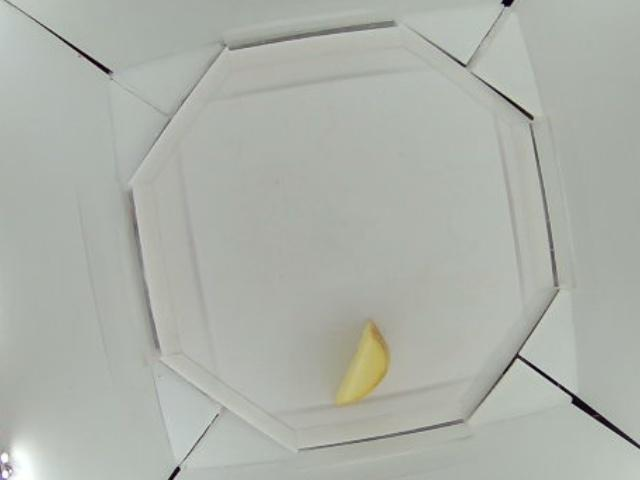Potato: (334, 321, 393, 406)
